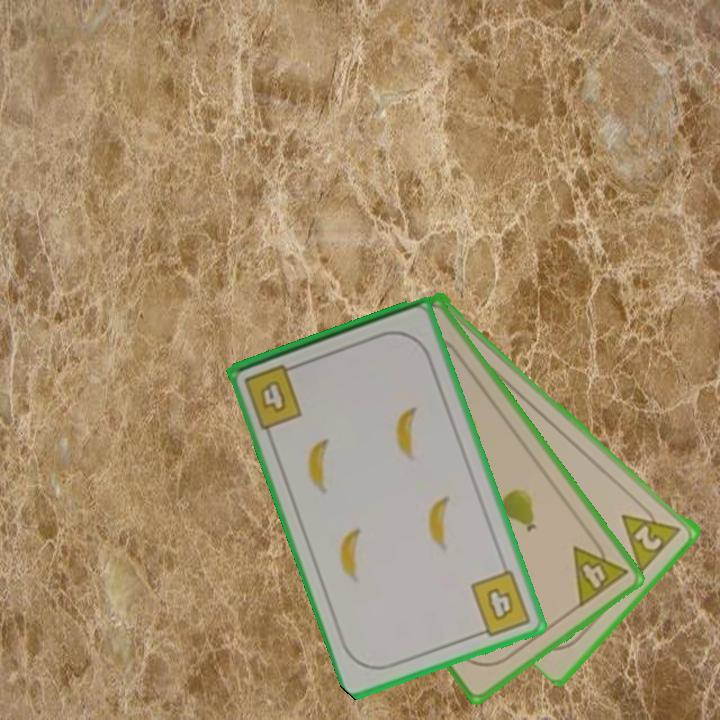2p: (618, 498, 684, 574)
4b: (467, 566, 535, 640), (240, 360, 306, 432)
4p: (569, 531, 631, 611)
